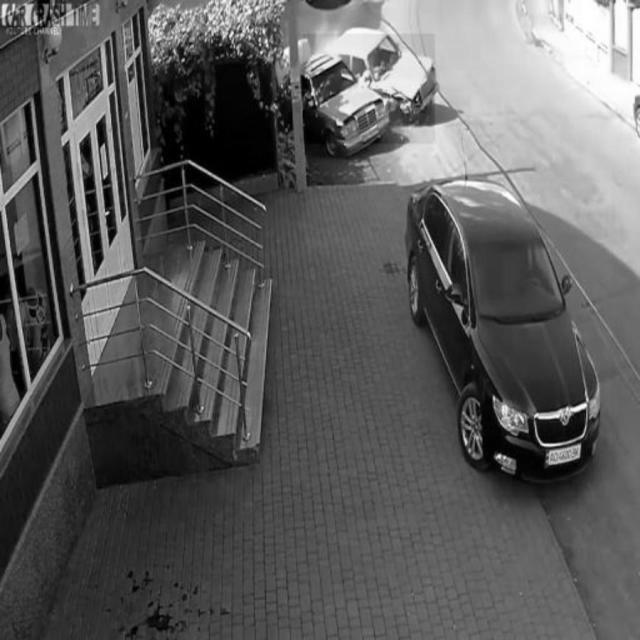accident: (302, 34, 436, 144)
vehicle: (406, 181, 612, 495)
